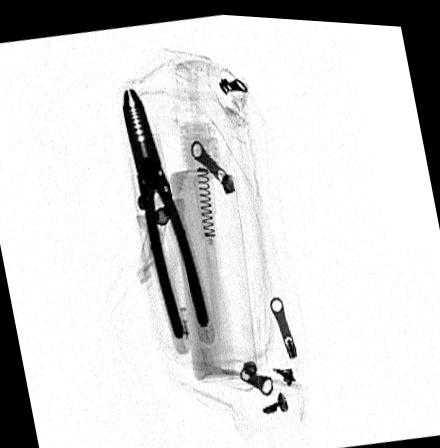Pliers: (120, 85, 209, 342)
